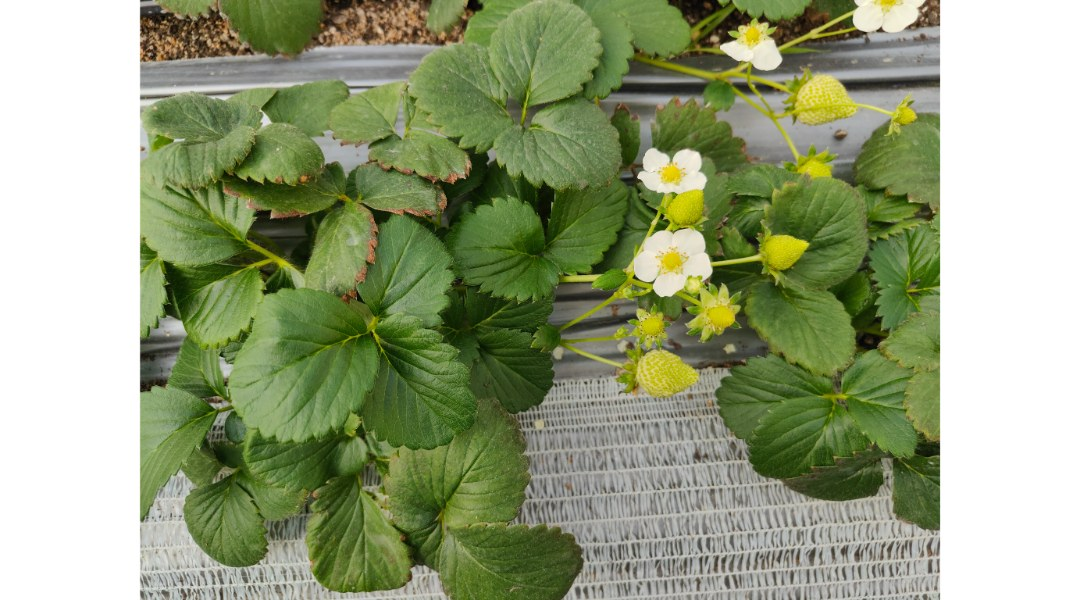berry: (782, 57, 866, 123), (749, 215, 815, 281), (688, 275, 744, 349), (631, 348, 711, 396), (617, 304, 674, 363)
flower: (628, 229, 724, 302), (635, 139, 713, 198), (717, 27, 790, 83), (846, 0, 926, 39)
strain: (623, 37, 712, 78), (759, 93, 798, 154), (554, 258, 617, 288), (568, 344, 614, 378), (576, 294, 606, 331)
